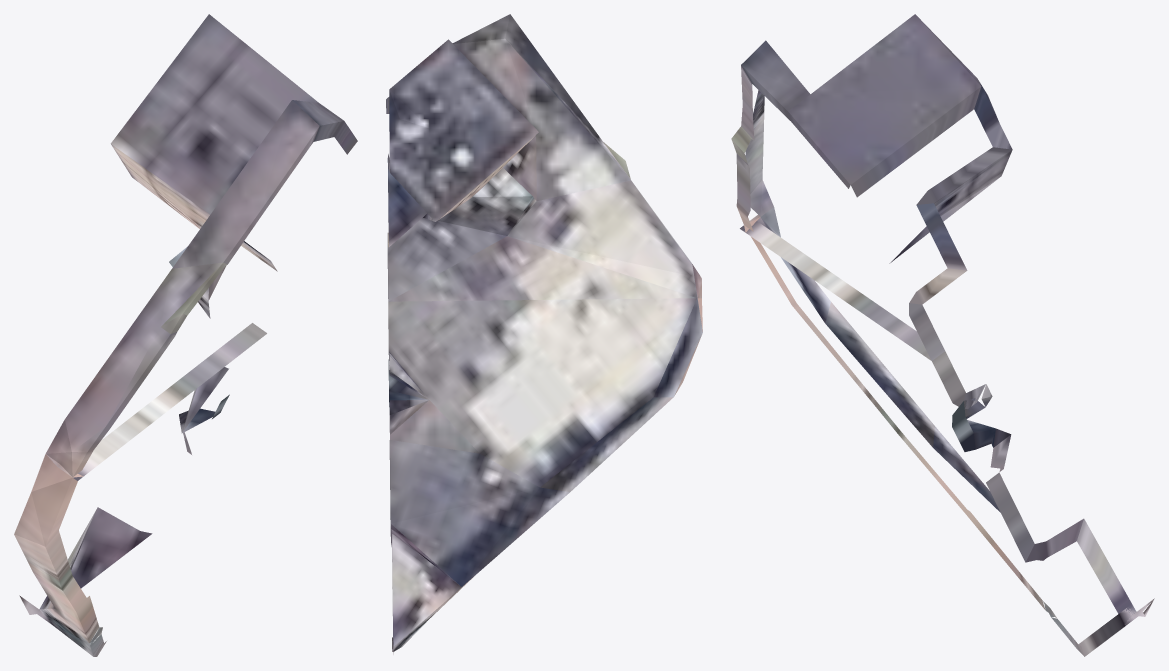
3 views of the same model, side by side, from view 1: azimuth 30°, elevation 25°; view 2: azimuth 150°, elevation 25°; view 3: azimuth 270°, elevation 25° (orthographic). The views are drawn at different scales.
Size of the model in its own units: 20.62 by 38.13 by 22.43.
1 material, 1 textured.
